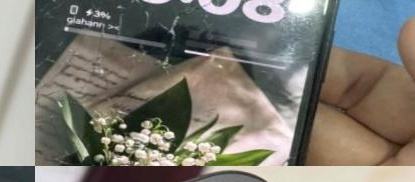physical_damage: (73, 30, 140, 85), (135, 38, 205, 89), (35, 74, 84, 138), (35, 24, 79, 85), (35, 128, 104, 166), (141, 0, 197, 46), (195, 4, 245, 51), (35, 0, 102, 33), (98, 0, 146, 36), (263, 149, 317, 166)
